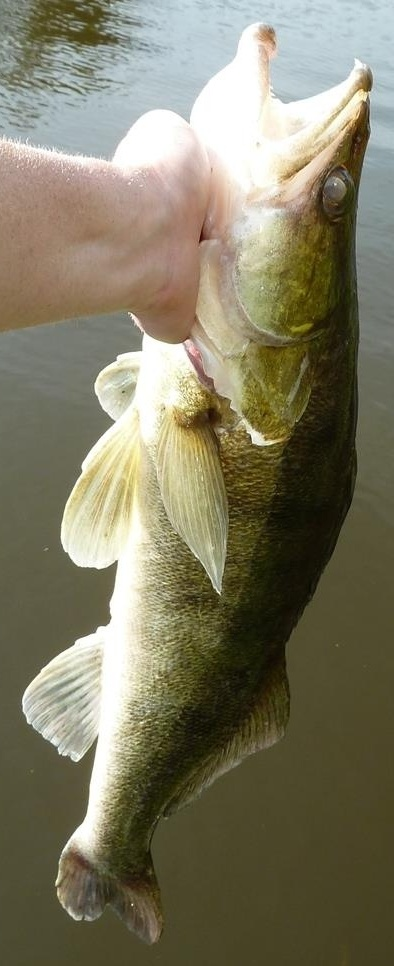Sander lucioperca: (20, 20, 374, 946)
